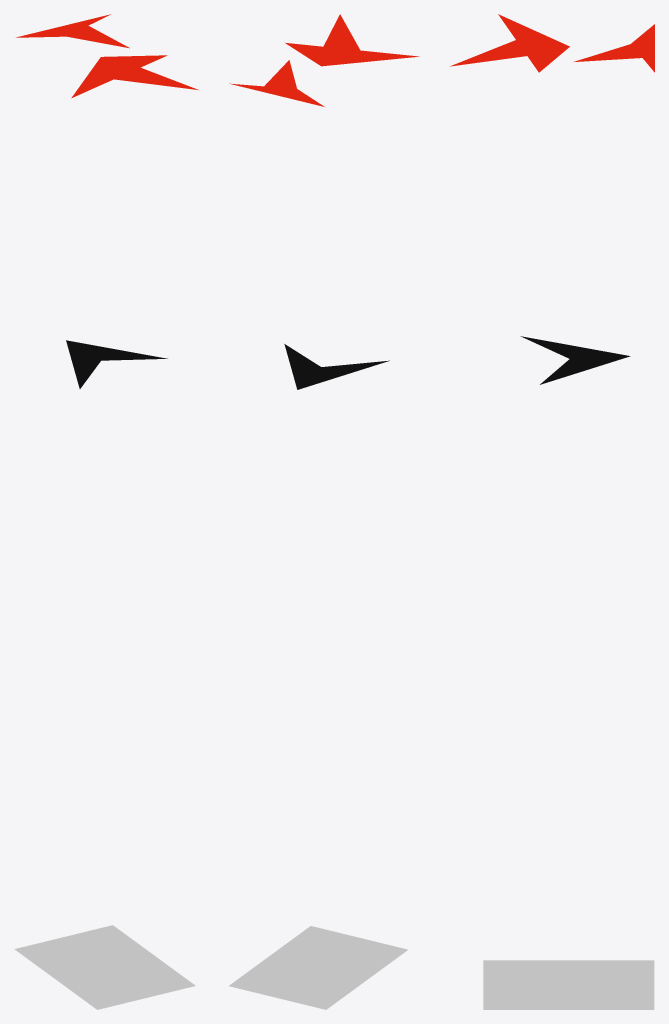
File: asset.glb
3 views of the same model, side by side, from view 1: azimuth 30°, elevation 25°; view 2: azimuth 150°, elevation 25°; view 3: azimuth 270°, elevation 25° (orthographic). The views are drawn at different scales.
Parts seen in each view (by area): view 1: 平面, 平面.002, 平面.001, 平面.003, 平面.005, 平面.004; view 2: 平面, 平面.002, 平面.001, 平面.003, 平面.004, 平面.005; view 3: 平面, 平面.002, 平面.001, 平面.003, 平面.004, 平面.005.
Part boxes in pixels (x1,y1,x2,y2): 平面: [14, 925, 195, 1009]; 平面.002: [66, 340, 167, 388]; 平面.001: [71, 55, 167, 98]; 平面.003: [94, 67, 198, 89]; 平面.005: [16, 14, 110, 37]; 平面.004: [67, 22, 129, 48]; 平面: [229, 926, 407, 1009]; 平面.002: [284, 344, 389, 389]; 平面.001: [285, 43, 419, 66]; 平面.003: [319, 14, 364, 58]; 平面.004: [260, 60, 296, 90]; 平面.005: [229, 83, 324, 106]; 平面: [483, 960, 654, 1009]; 平面.002: [520, 336, 630, 384]; 平面.001: [498, 14, 569, 72]; 平面.003: [450, 34, 546, 66]; 平面.004: [574, 44, 653, 61]; 平面.005: [631, 24, 654, 72].
Size of the model in its own units: 4.06 by 30 by 5.97.
